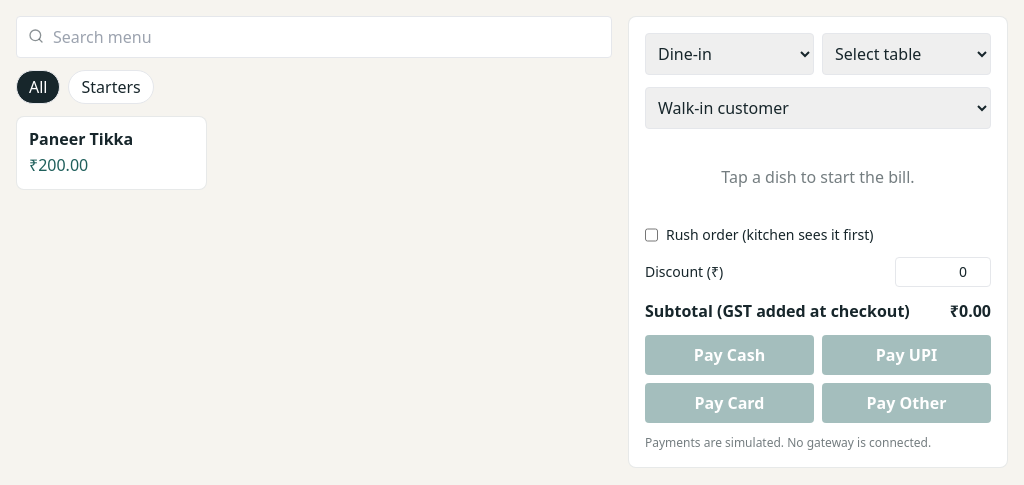
Test: Billing screen › totals the cart and disables payment when it is empty
Expected: the button "Pay cash" is disabled, [645,335,814,375]
Click the text "Paneer Tikka": point(81, 139) [29,128,133,150]
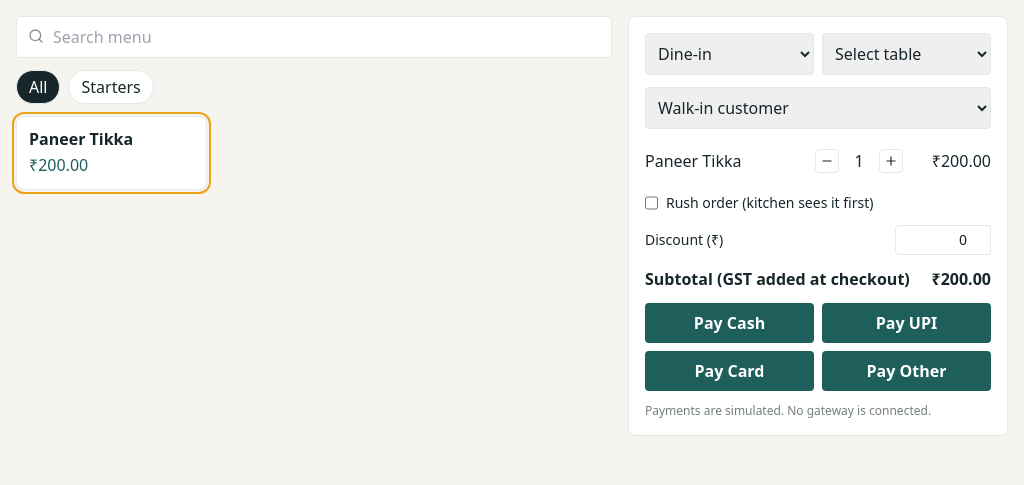
Click the 1st text "Paneer Tikka": point(81, 139) [29,128,133,150]
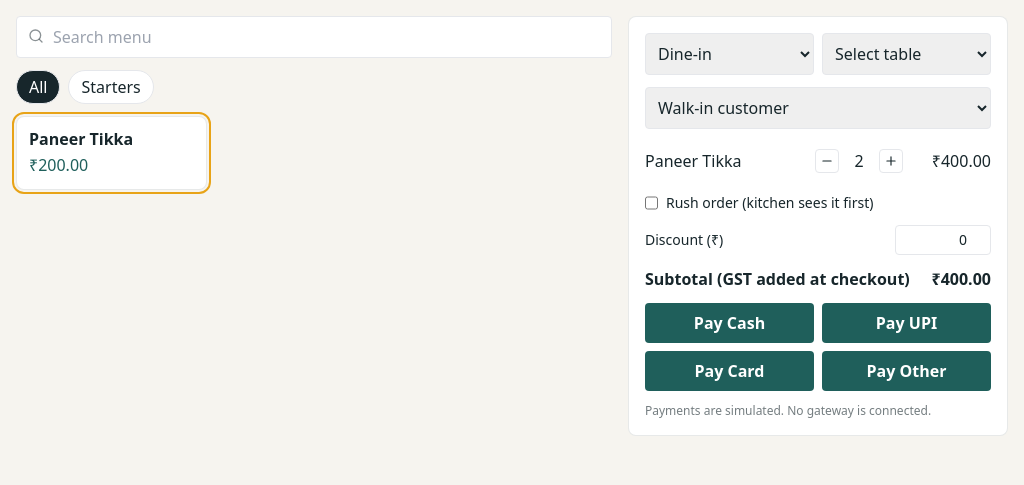
Expected: the button "Pay cash" is enabled, [645,303,814,343]
Expected: the 1st text "₹400.00" is shown, [932,150,991,172]
